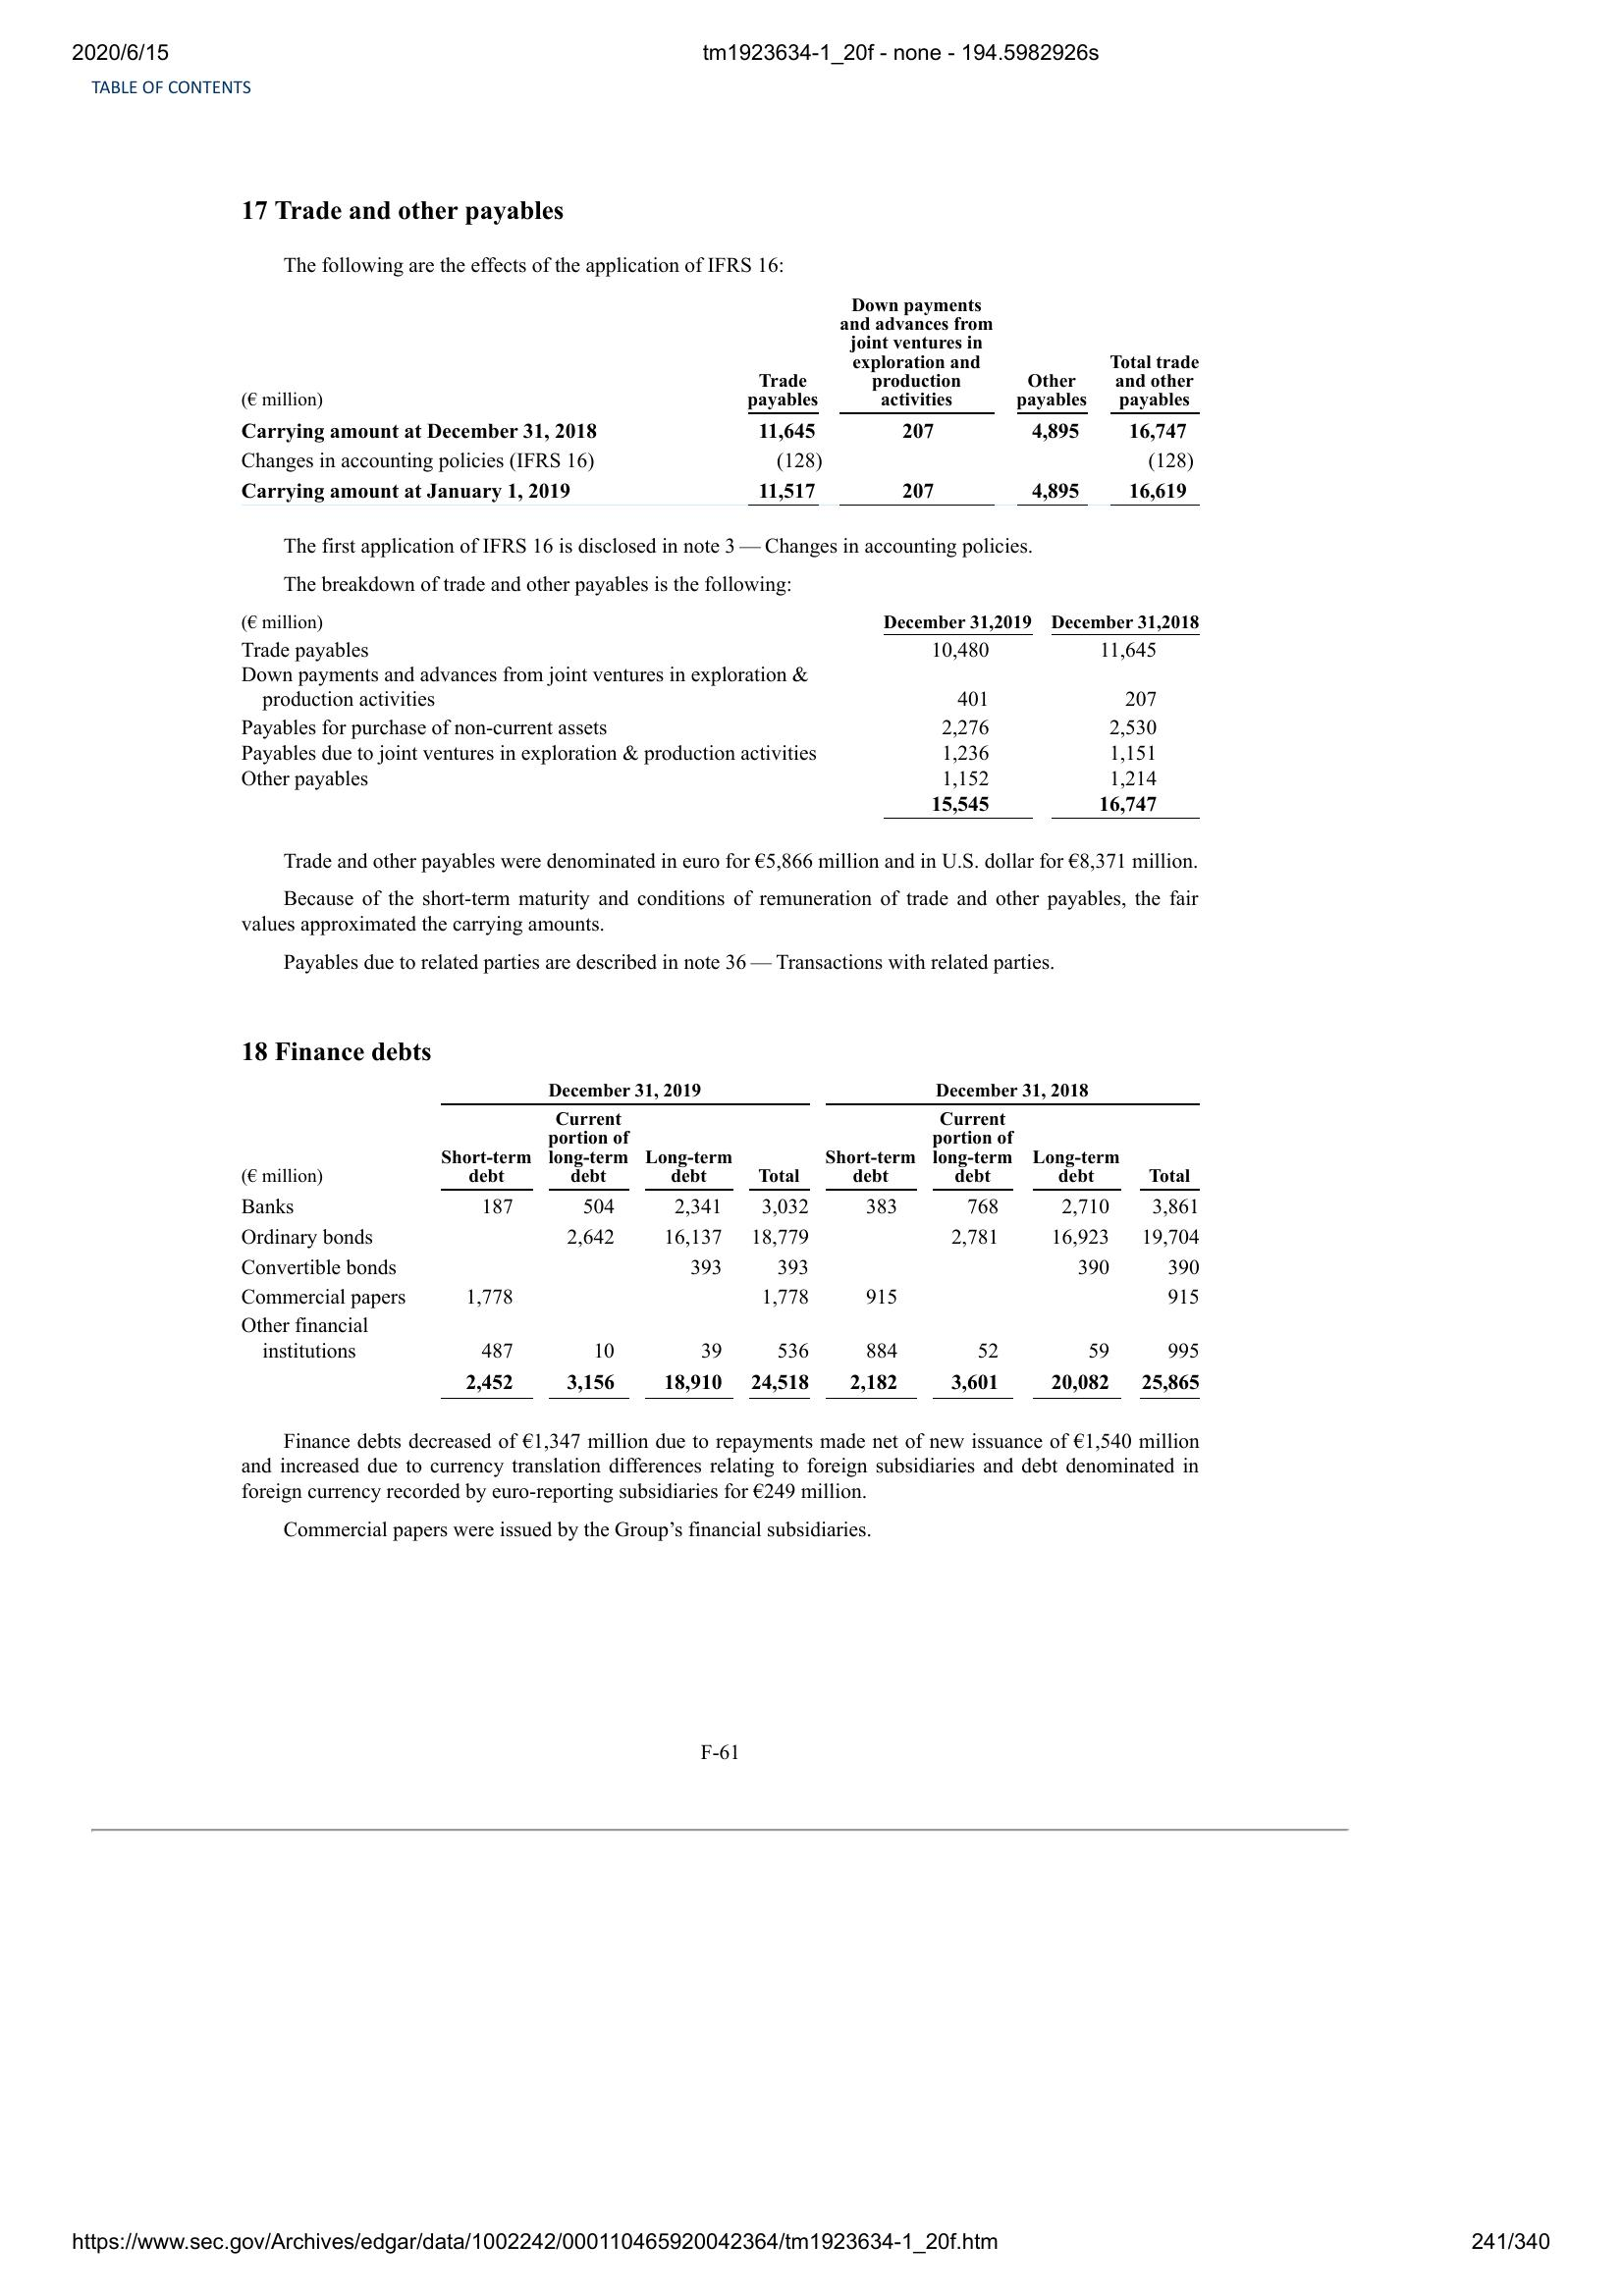table: (228, 1076, 1203, 1401), (241, 604, 1203, 825), (234, 295, 1203, 509)
